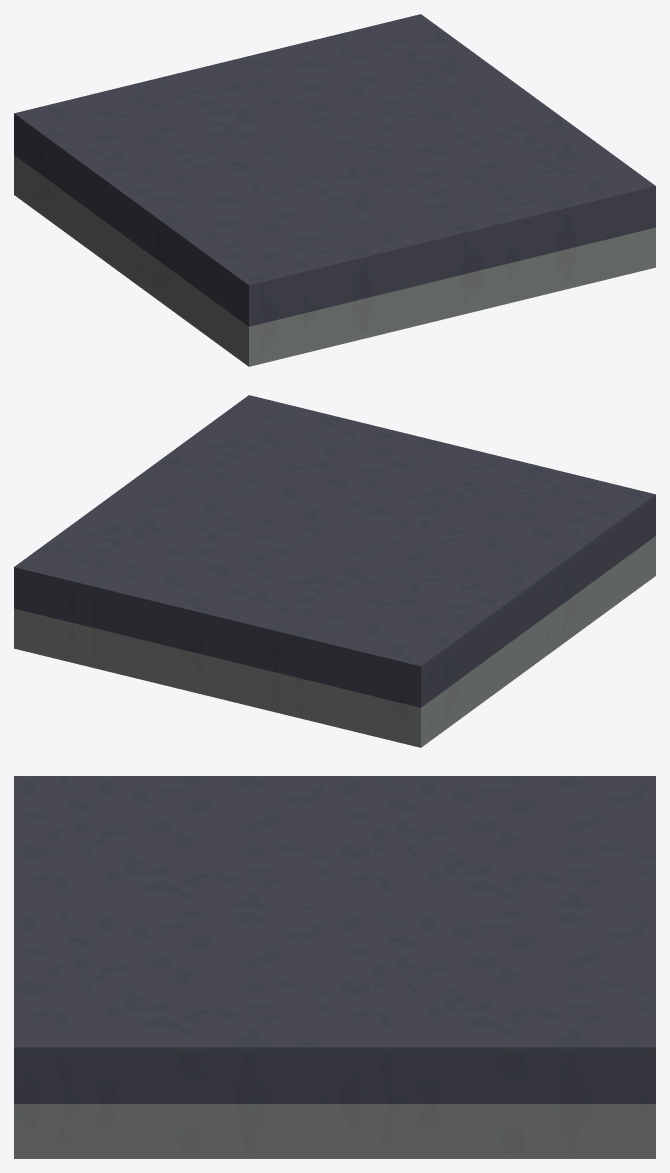
The model's file is SM_Bld_Balcony_Floor_01.obj.
3 views of the same model, one above another, from view 1: azimuth 30°, elevation 25°; view 2: azimuth 150°, elevation 25°; view 3: azimuth 270°, elevation 25° (orthographic). The views are drawn at different scales.
Parts seen in each view (by area): view 1: SM_Bld_Balcony_Floor_01_1, SM_Bld_Balcony_Floor_01_0; view 2: SM_Bld_Balcony_Floor_01_1, SM_Bld_Balcony_Floor_01_0; view 3: SM_Bld_Balcony_Floor_01_1, SM_Bld_Balcony_Floor_01_0.
Boxes of the visible parts, <box> form: SM_Bld_Balcony_Floor_01_1: <box>14,14,655,326</box>; SM_Bld_Balcony_Floor_01_0: <box>14,155,655,366</box>; SM_Bld_Balcony_Floor_01_1: <box>14,395,655,707</box>; SM_Bld_Balcony_Floor_01_0: <box>14,536,655,747</box>; SM_Bld_Balcony_Floor_01_1: <box>14,776,655,1103</box>; SM_Bld_Balcony_Floor_01_0: <box>14,1104,655,1158</box>.
Size of the model in its own units: 2.5 by 0.4786 by 2.5.
Materials: 2 (2 with a texture image).
